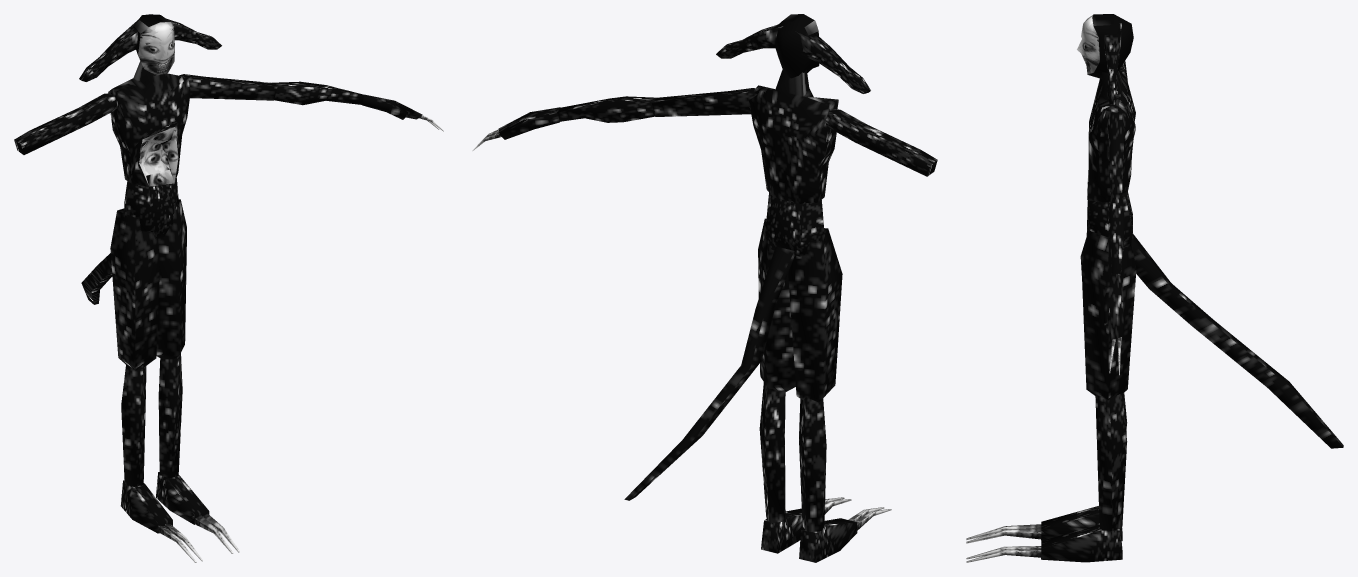
File: monster.glb
3 views of the same model, side by side, from view 1: azimuth 30°, elevation 25°; view 2: azimuth 150°, elevation 25°; view 3: azimuth 270°, elevation 25° (orthographic). The views are drawn at different scales.
Parts seen in each view (by area): view 1: Object_1.002; view 2: Object_1.002; view 3: Object_1.002.
Part boxes in pixels (x1,y1,x2,y2): Object_1.002: [14, 14, 443, 562]; Object_1.002: [472, 14, 937, 562]; Object_1.002: [966, 14, 1343, 562].
Bounding box in the file's own units: 11.16 × 12.43 × 7.95.
Materials: 1 (1 with a texture image).
